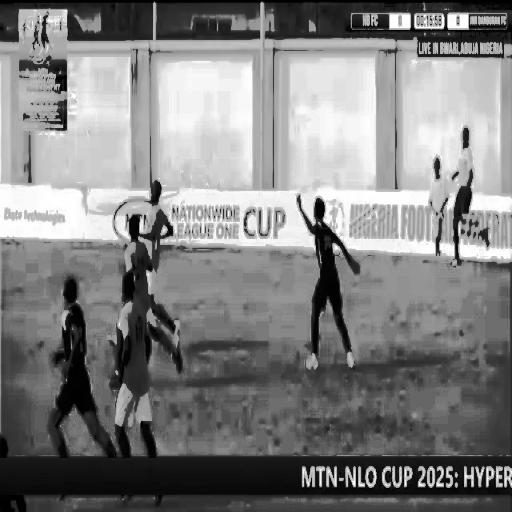distract: (425, 148, 452, 262)
referee: (455, 116, 488, 268)
team1: (116, 276, 154, 455), (124, 214, 150, 322), (142, 177, 163, 292)
team2: (289, 169, 369, 385), (51, 281, 110, 464)
